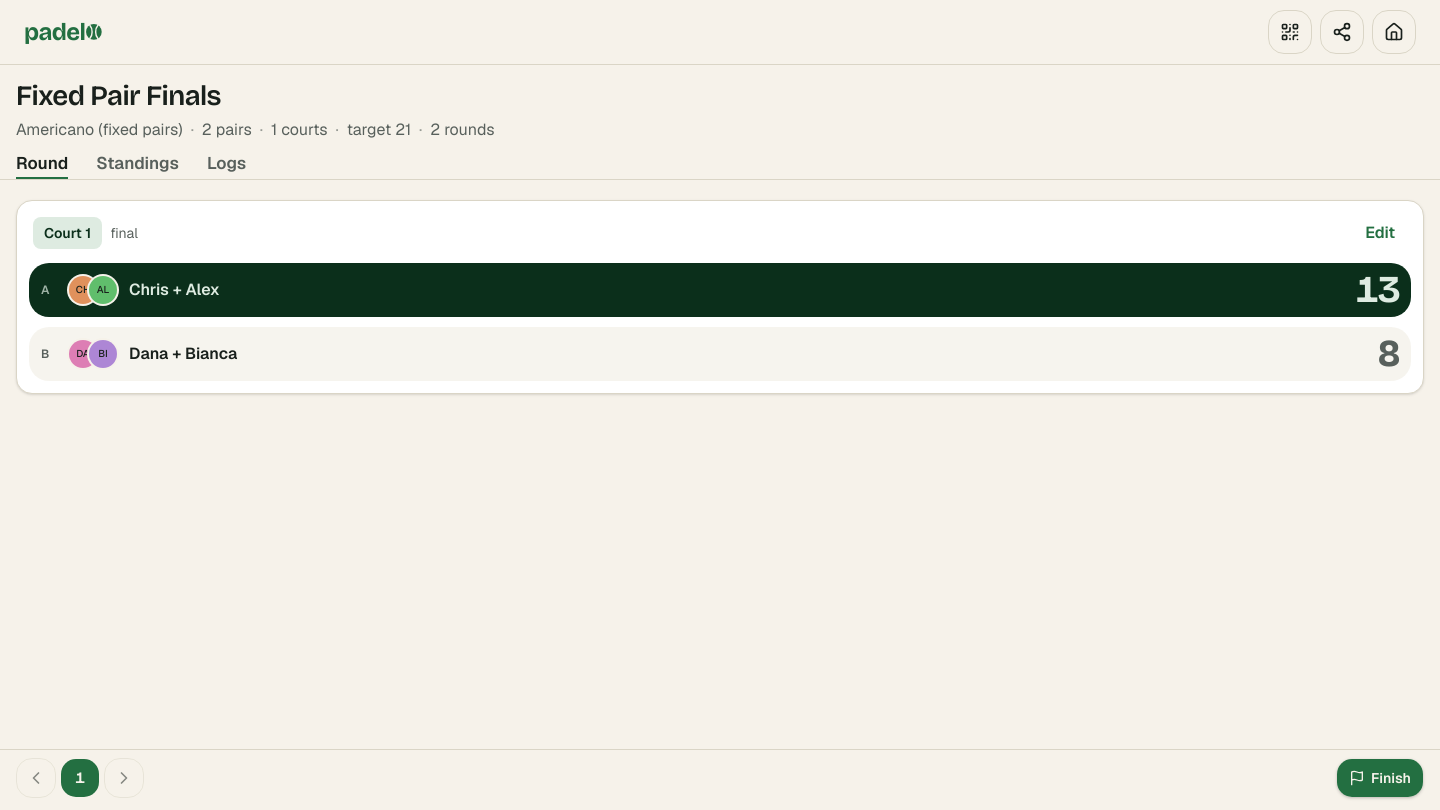
Test: fixed-pair standings and replay › renders one undoubled score per pair in active standings
This screenshot has width=1440, height=810.
Expected: the heading "Fixed Pair Finals" is shown, [16,79,221,113]
Click the tab "Standings": (138, 164) [96,148,179,179]
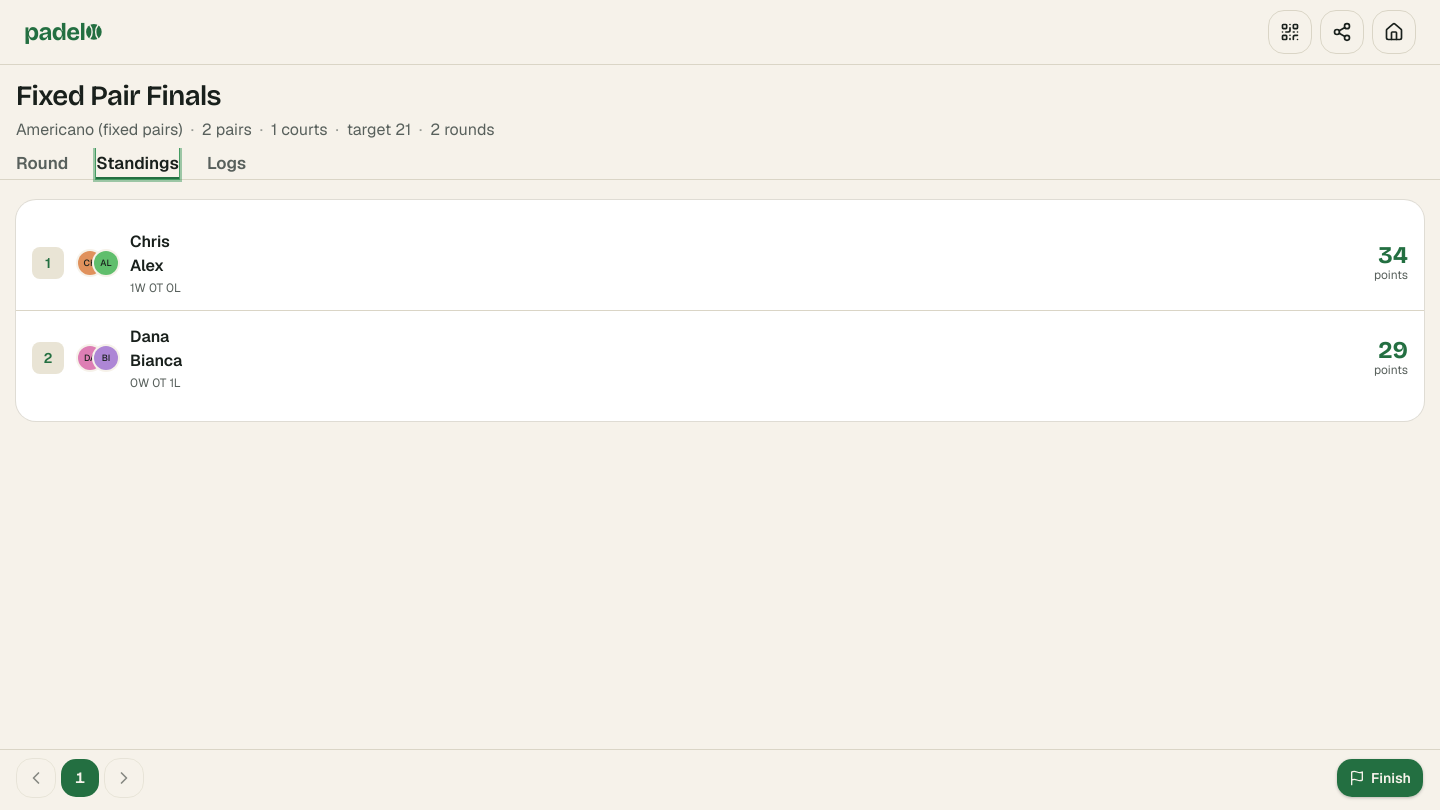
Expected: the text "Chris" is shown once, [130,231,170,252]
Expected: the text "Alex" is shown once, [130,255,164,276]
Expected: the text "34" is shown, [1374,243,1408,267]
